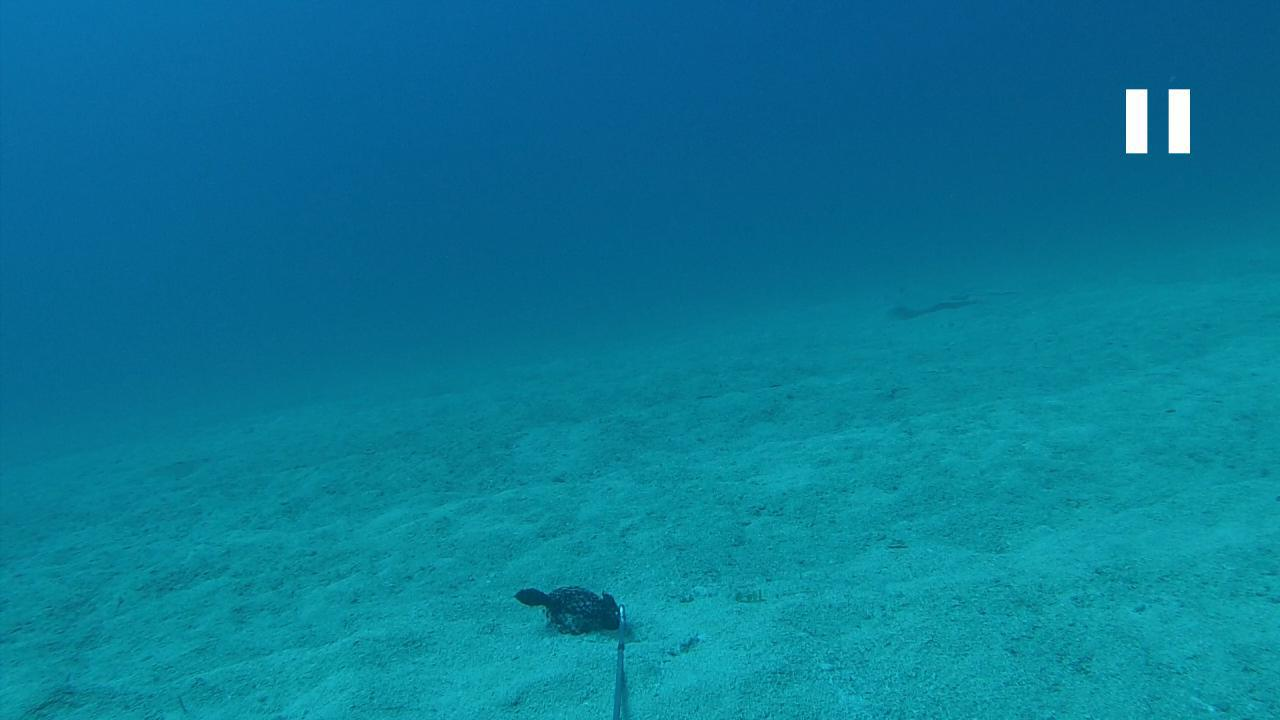dasyatis: (883, 288, 1025, 312)
